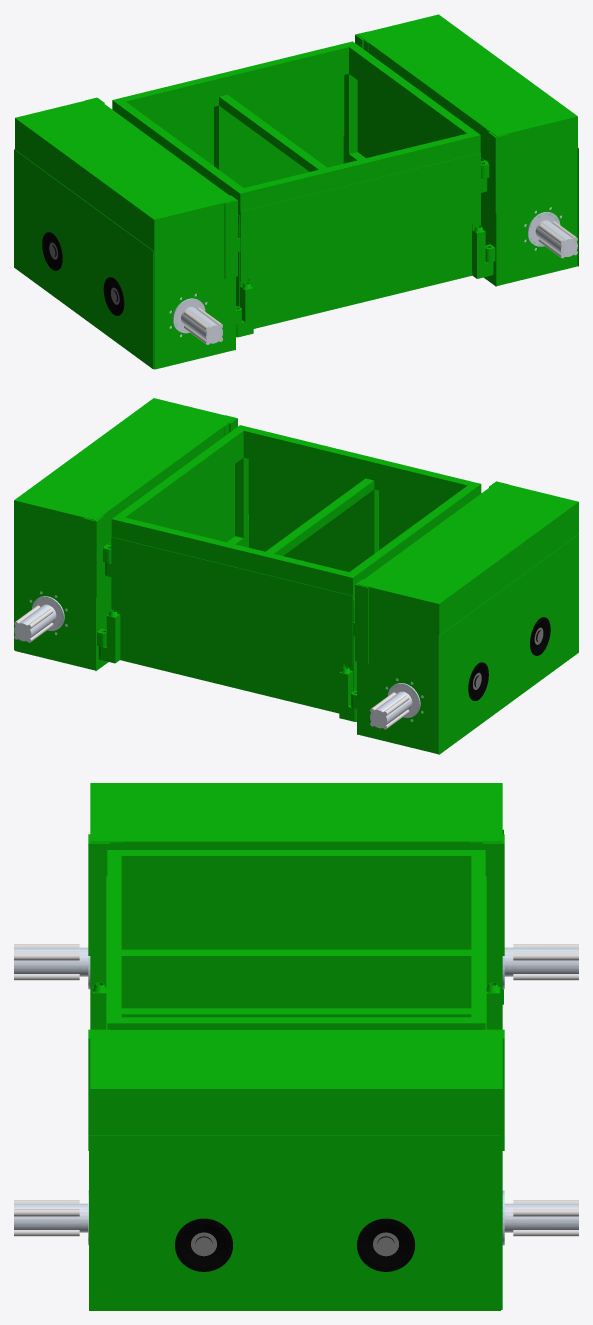
The model's file is Body with motors.fbx.
The picture shows the model from 3 angles, top to bottom: view 1: azimuth 30°, elevation 25°; view 2: azimuth 150°, elevation 25°; view 3: azimuth 270°, elevation 25°; orthographic projection. The views are drawn at different scales.
Visible parts, largest first — view 1: Body with motors; view 2: Body with motors; view 3: Body with motors.
Boxes of the visible parts, <box> form: Body with motors: <box>14,14,578,369</box>; Body with motors: <box>14,398,578,754</box>; Body with motors: <box>14,783,578,1310</box>.
Bounding box in the file's own units: 100 × 33.7 × 77.6.
